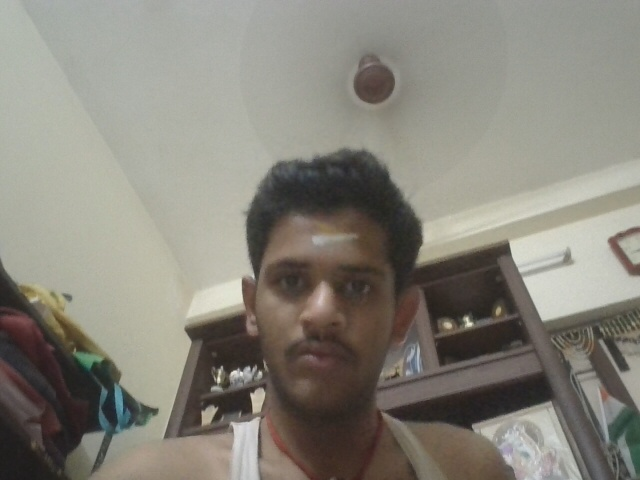real: (232, 210, 418, 396), (16, 401, 67, 452)
